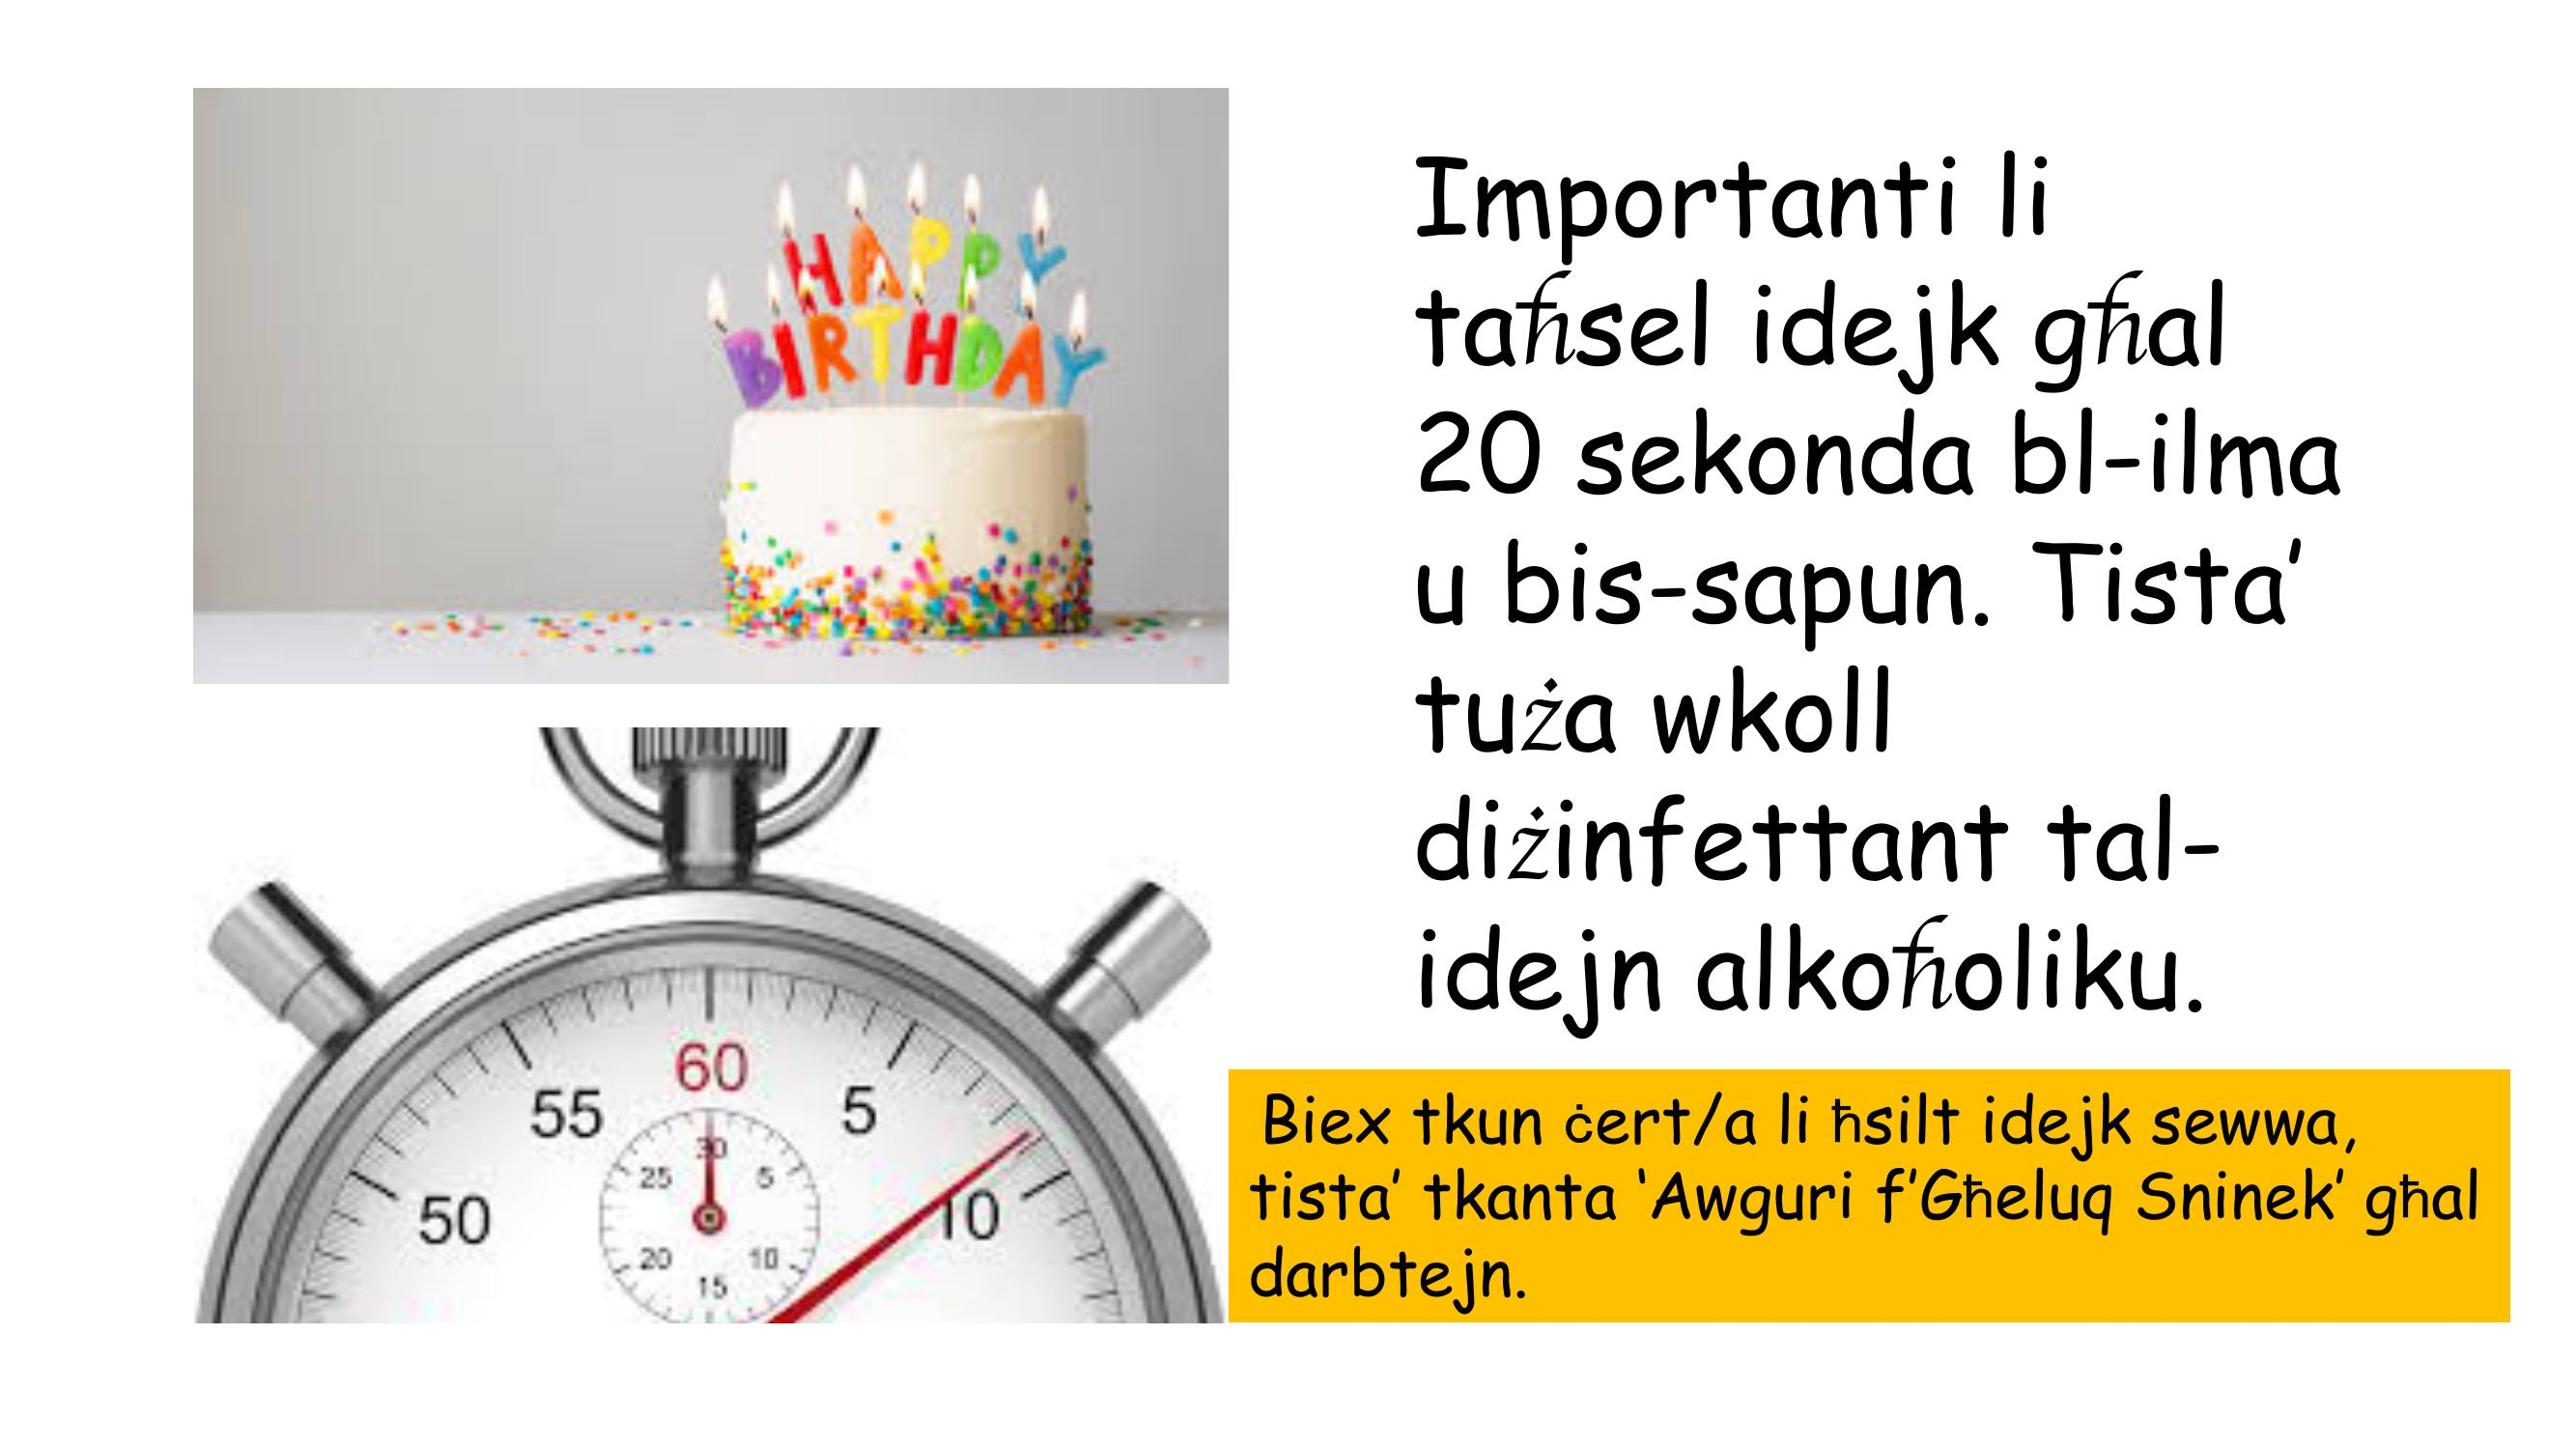text: (1376, 119, 2362, 1054), (1237, 1076, 2493, 1318)
